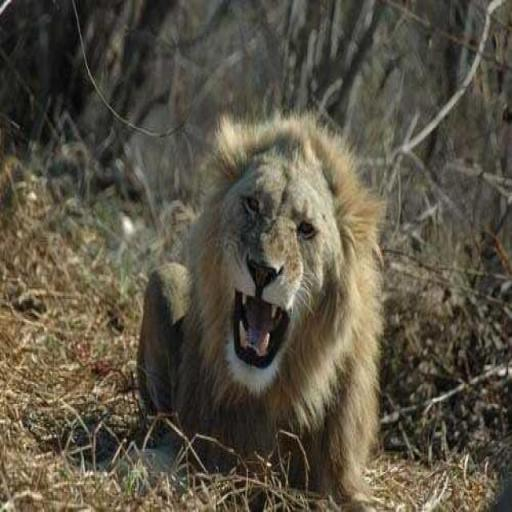Lion: (136, 105, 388, 509)
